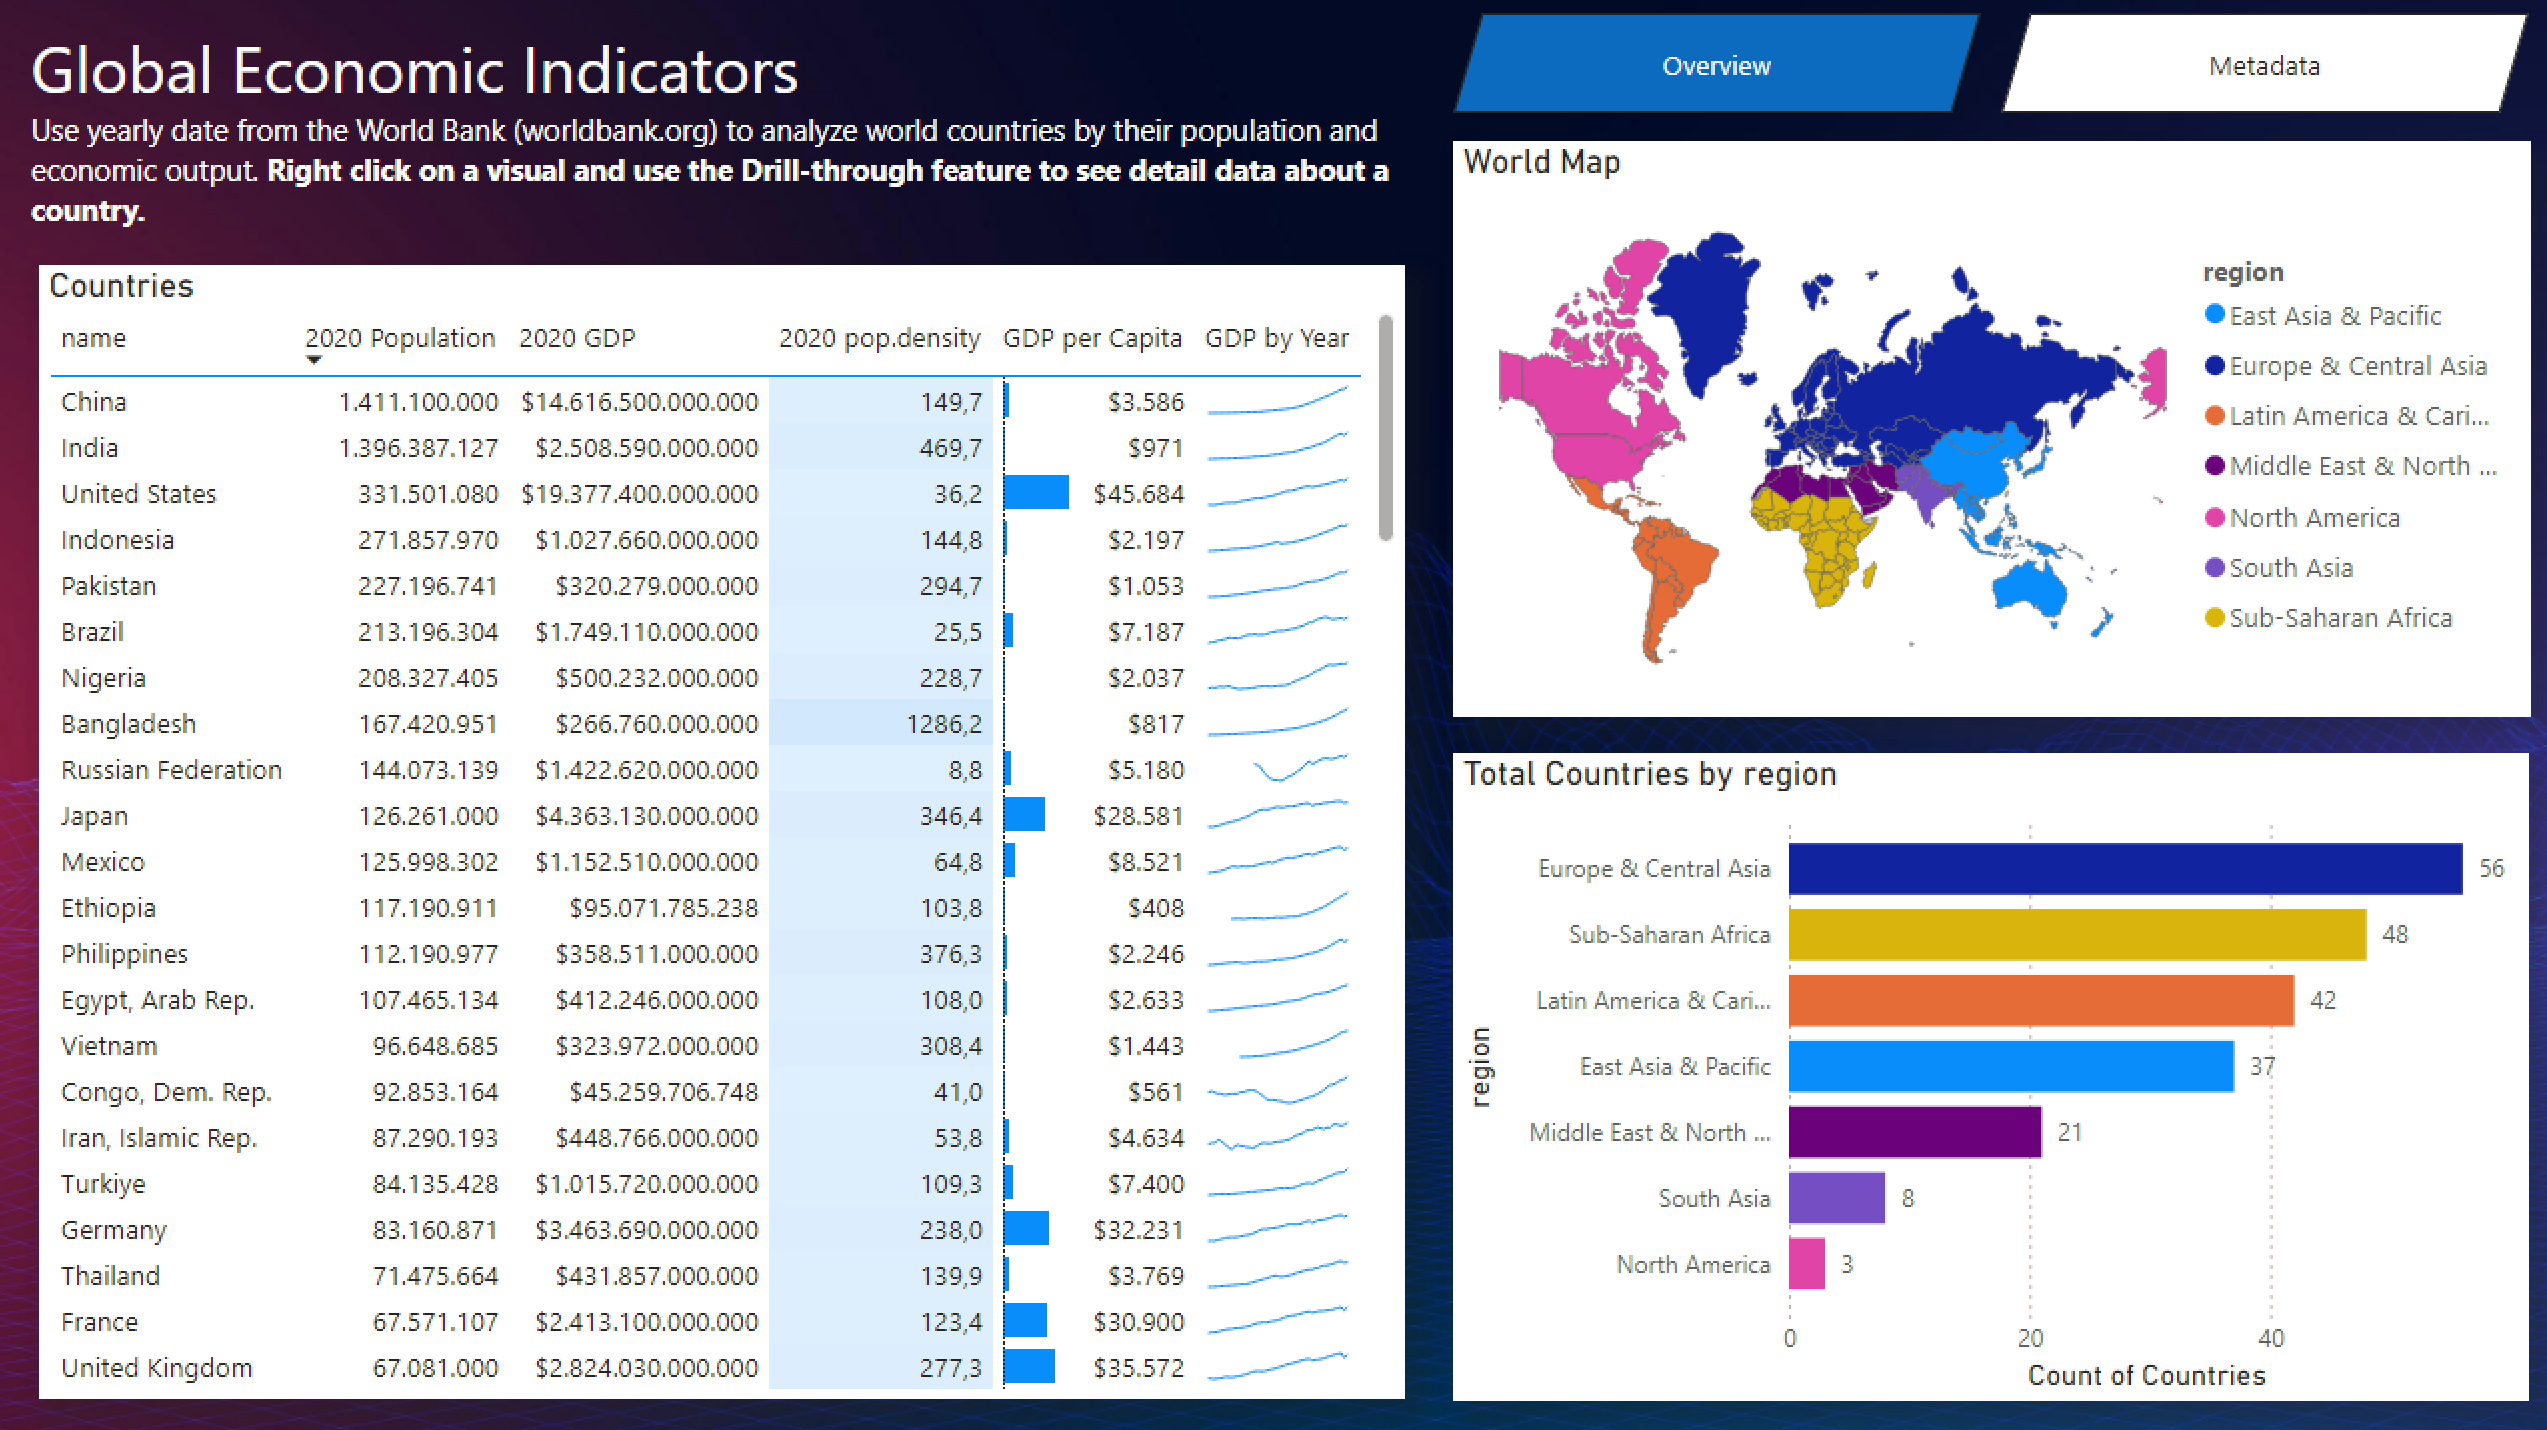

The dashboard page shown, as its layout file describes it:
{"tool":"powerbi","page":{"name":"Overview","canvas":[1280,720],"ordinal":0},"visuals":[{"type":"tableEx","title":"Countries","fields":{"Values":["Countries.name","_Measures.2020 Population","_Measures.2020 GDP","_Measures.2020 pop.density","_Measures.GDP per Capita","SparklineData(_Measures.GDP_[Indicators.Year])"]},"box":[15,134,683,567],"z":0},{"type":"shapeMap","title":"World Map","fields":{"Category":["Countries.iso2Code"],"Series":["Countries.region"],"Value":["CountNonNull(Countries.id)"]},"box":[726.7,72.2,538.9,287.8],"z":1000},{"type":"clusteredBarChart","title":"Total Countries by region","fields":{"Category":["Countries.region"],"Y":["Count(Countries)"]},"box":[726.8,378.3,538.6,323.3],"z":2000},{"type":"pageNavigator","box":[726.7,7.8,538.9,50],"z":3000},{"type":"textbox","box":[11.1,7.8,692.2,114.4],"z":4000}]}

Visuals, with their boxes in screenshot pixels (x1, y1, x2, y2), scaled from the page's 1280x720 canvas onto the 2547x1430 screenshot:
"Countries" tableEx: l=30, t=266, r=1389, b=1392
"World Map" shapeMap: l=1446, t=143, r=2518, b=715
"Total Countries by region" clusteredBarChart: l=1446, t=751, r=2518, b=1393
pageNavigator: l=1446, t=15, r=2518, b=115
textbox: l=22, t=15, r=1399, b=243
